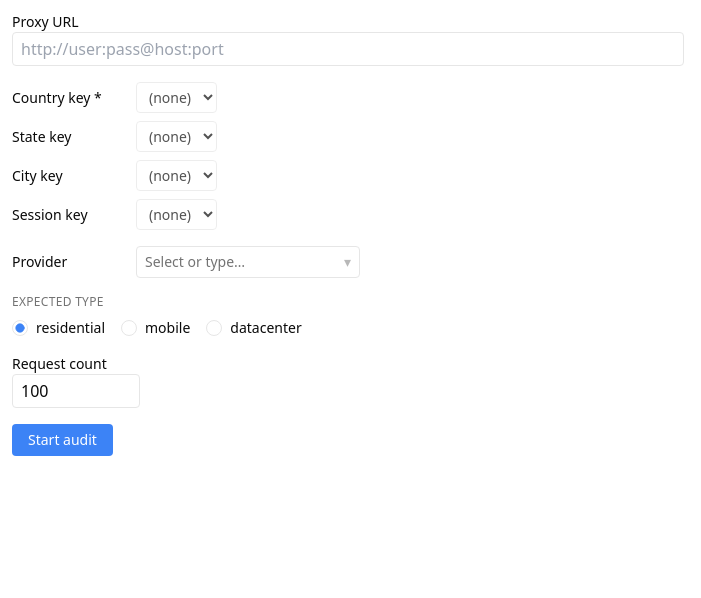
Test: AuditSetupForm — token picker › blocks submit when no country key is picked
Type "http://hardcore_oparin6667-zone-residential-countryCode-RO-sessionId@eu-gw.databay.co:8888" into the field labelled "Proxy URL".
click(348, 49); type("http://hardcore_oparin6667-zone-residential-countryCode-RO-sessionId@eu-gw.databay.co:8888")  # box [12,32,684,66]
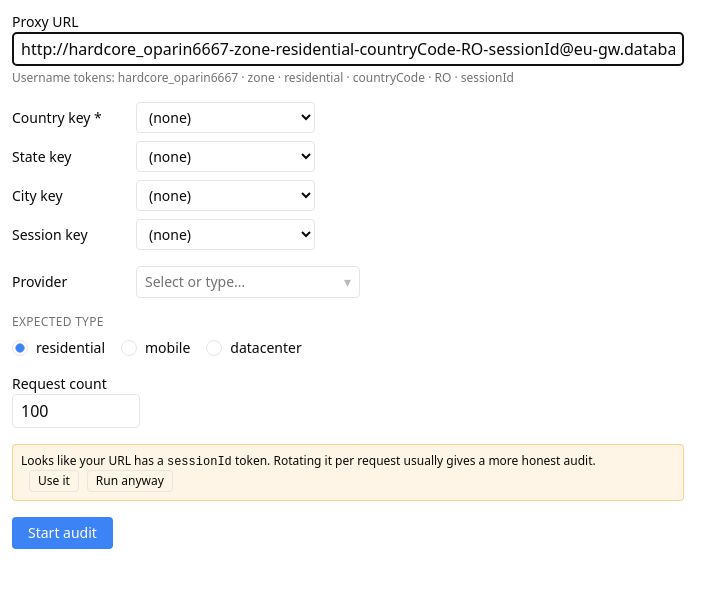
Click the button "Start audit".
click(62, 533)  # box [12,517,113,549]
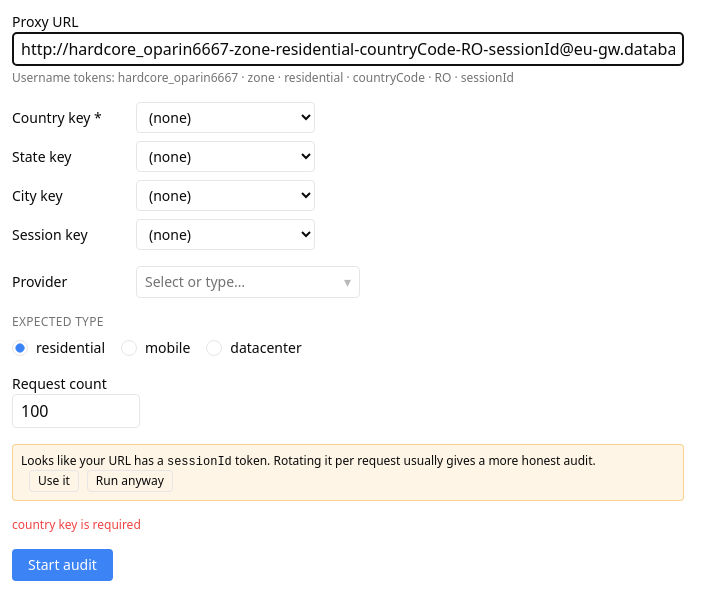
Check: the text "country key is required" is shown, box [12,516,141,533]
